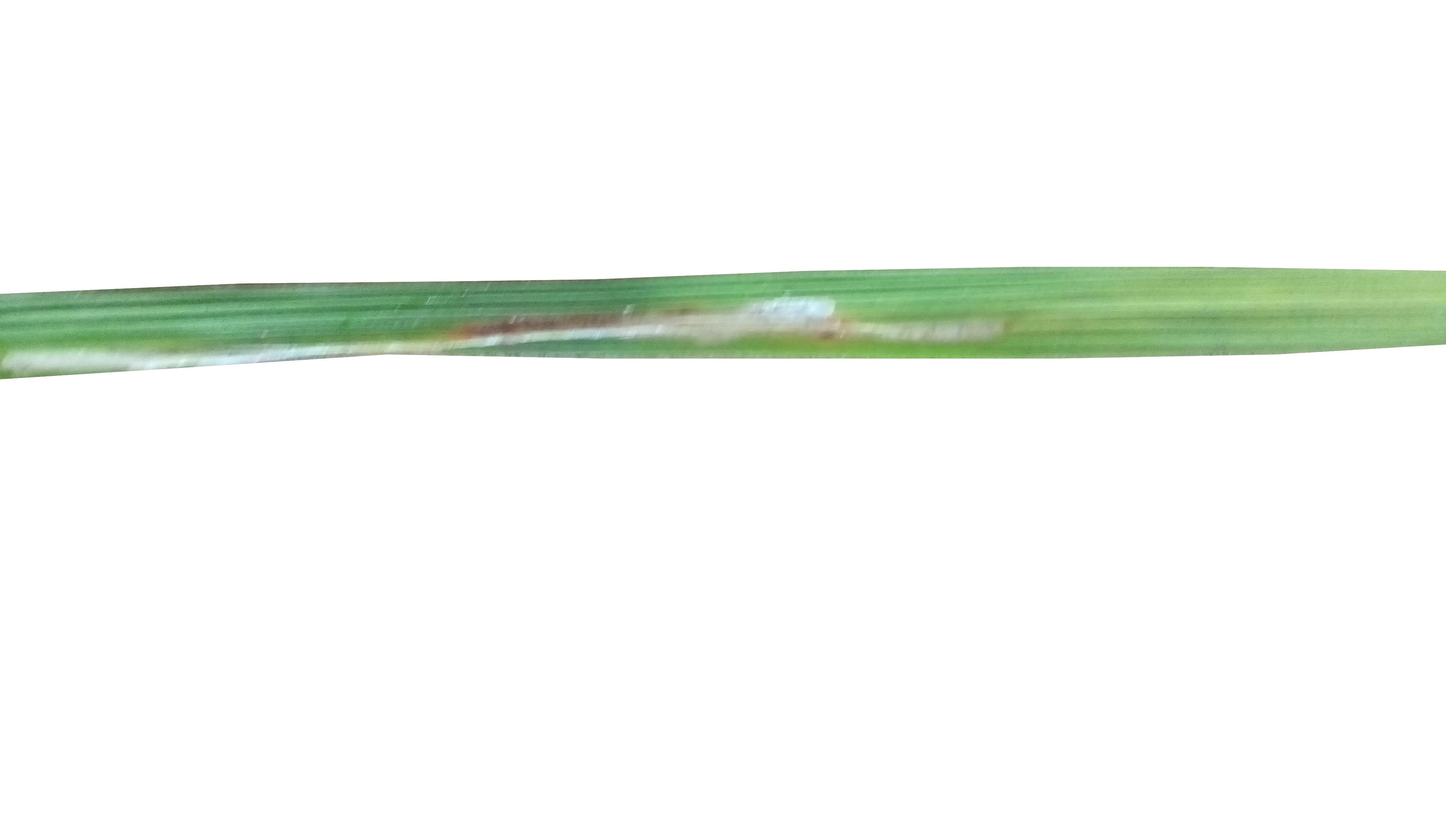Blight: (391, 323, 1018, 346), (725, 290, 841, 351), (5, 351, 188, 370)
